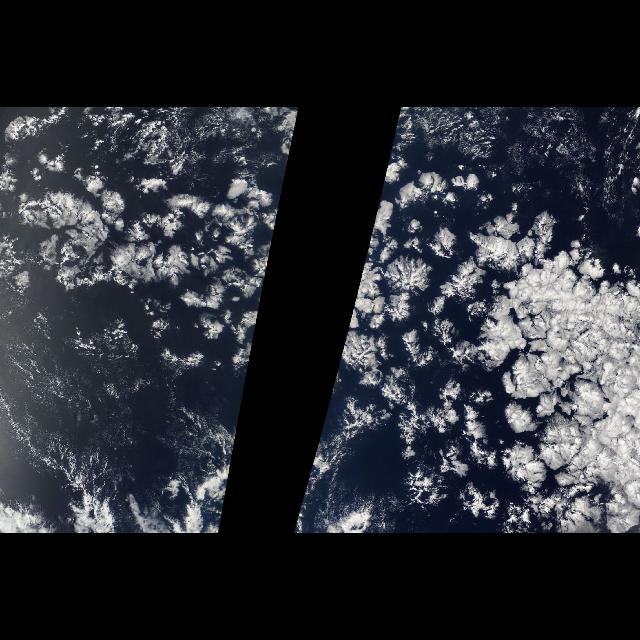Flower: (295, 115, 631, 533), (11, 115, 298, 522)
Sugar: (386, 232, 590, 502)
